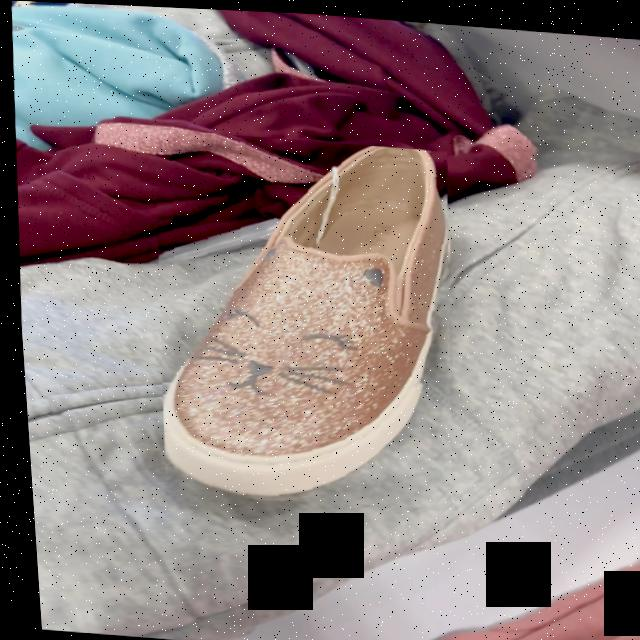shoe: (157, 142, 445, 498)
